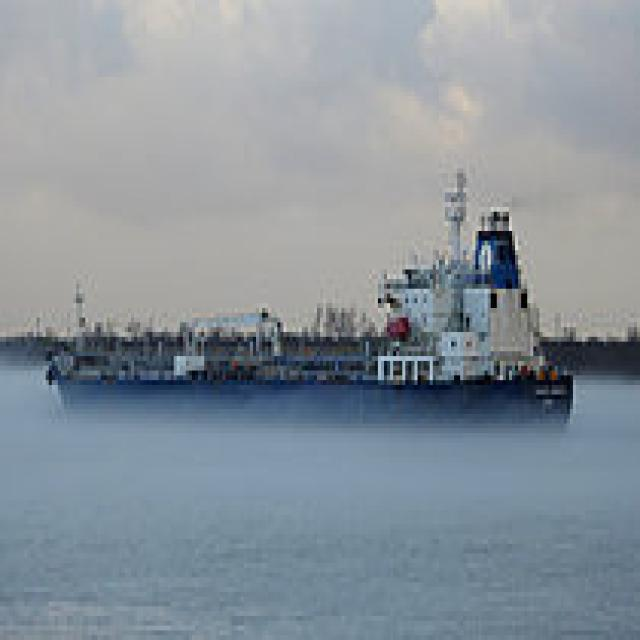Tanker: (40, 164, 576, 448)
